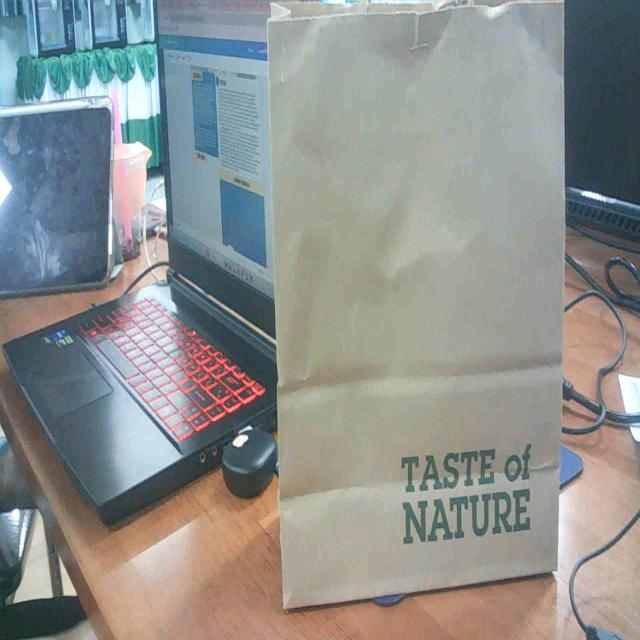bag: (245, 0, 576, 607)
